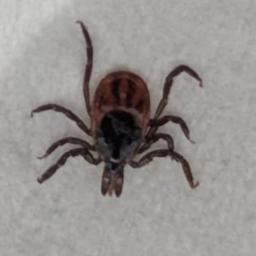Ixodes scapularis: (29, 18, 205, 197)
